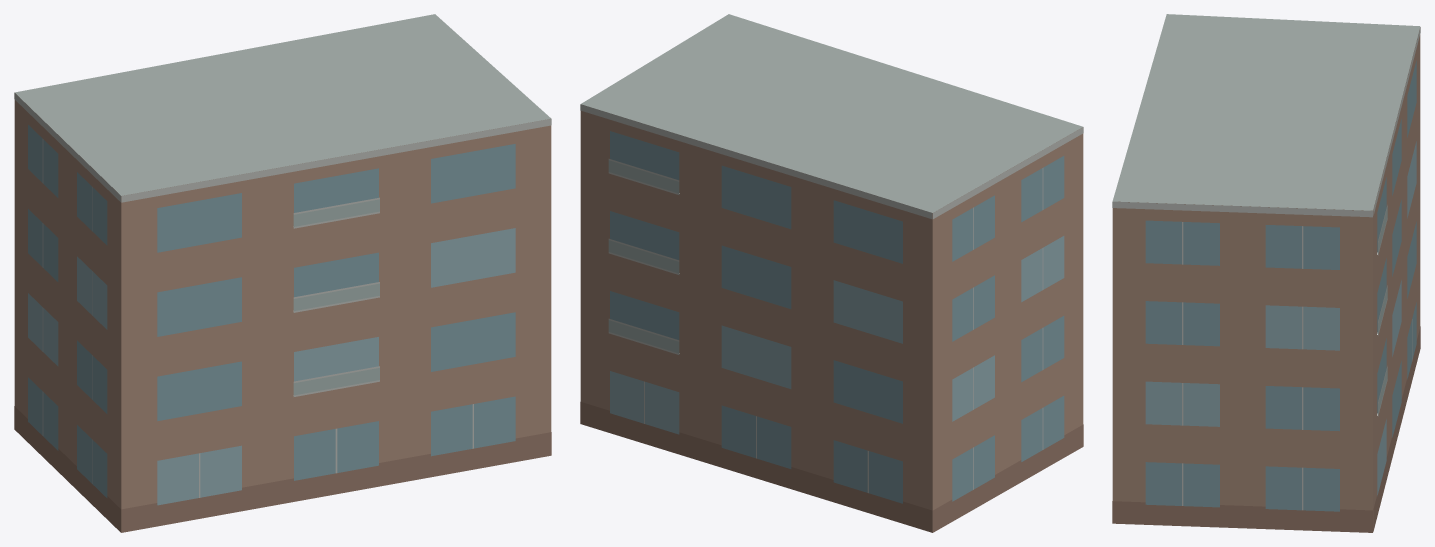
The model's file is survey-upis-32566388.glb.
The picture shows the model from 3 angles, left to right: view 1: azimuth 30°, elevation 25°; view 2: azimuth 150°, elevation 25°; view 3: azimuth 270°, elevation 25°; orthographic projection. The views are drawn at different scales.
Visible parts, largest first — view 1: survey-upis-32566388.tmp; view 2: survey-upis-32566388.tmp; view 3: survey-upis-32566388.tmp.
Boxes of the visible parts, box(x1,y1,x2,y2) form: survey-upis-32566388.tmp: box(14, 14, 551, 532); survey-upis-32566388.tmp: box(580, 14, 1083, 532); survey-upis-32566388.tmp: box(1112, 14, 1420, 532).
Size of the model in its own units: 15.86 by 12.1 by 10.5.
